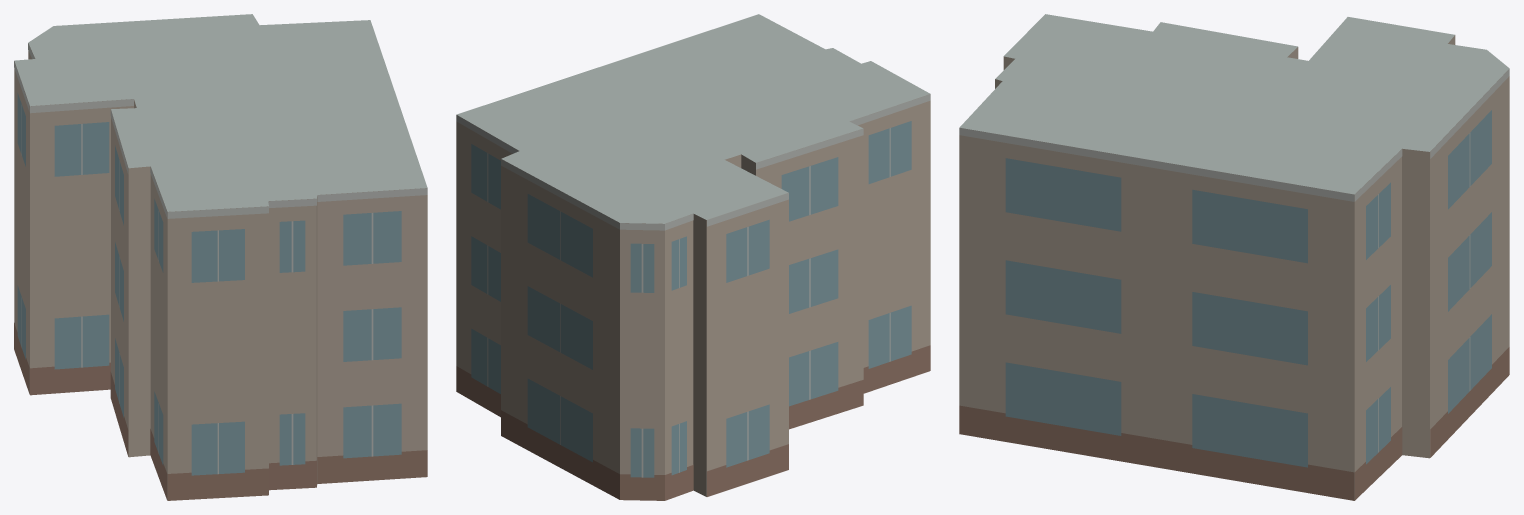
File: survey-upis-32487090.glb
3 renders of one model, left to right at view 1: azimuth 30°, elevation 25°; view 2: azimuth 150°, elevation 25°; view 3: azimuth 270°, elevation 25°, orthographic. The views are drawn at different scales.
Visible parts, largest first — view 1: survey-upis-32487090.tmp; view 2: survey-upis-32487090.tmp; view 3: survey-upis-32487090.tmp.
Part boxes in pixels (bbox=[...]): survey-upis-32487090.tmp: bbox=[14, 14, 427, 500]; survey-upis-32487090.tmp: bbox=[456, 14, 930, 500]; survey-upis-32487090.tmp: bbox=[959, 14, 1509, 500].
Bounding box in the file's own units: 12.64 × 10 × 16.29.
